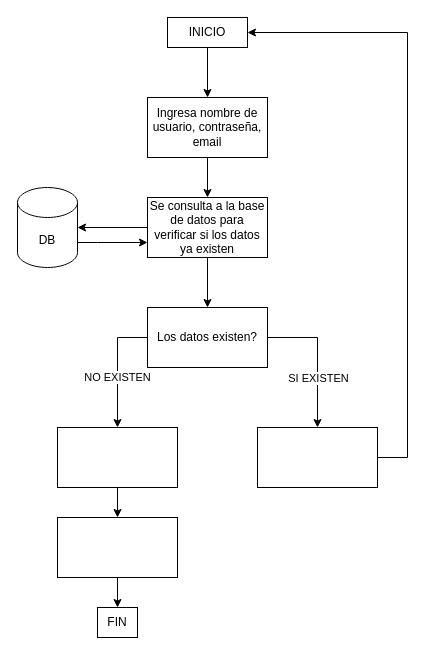
The diagram is 433 pixels wide and 655 high, and some of its shapes have lost their labels. The shapes that lost their labels are listed below. From the top down, each one's centre as x and y in pixels, then its label:
the point at 117,457: Se guardan los datos en la base de datos
the point at 317,457: "El usuario ya existe"
the point at 117,547: Se completa el registro y se redirige al Login
